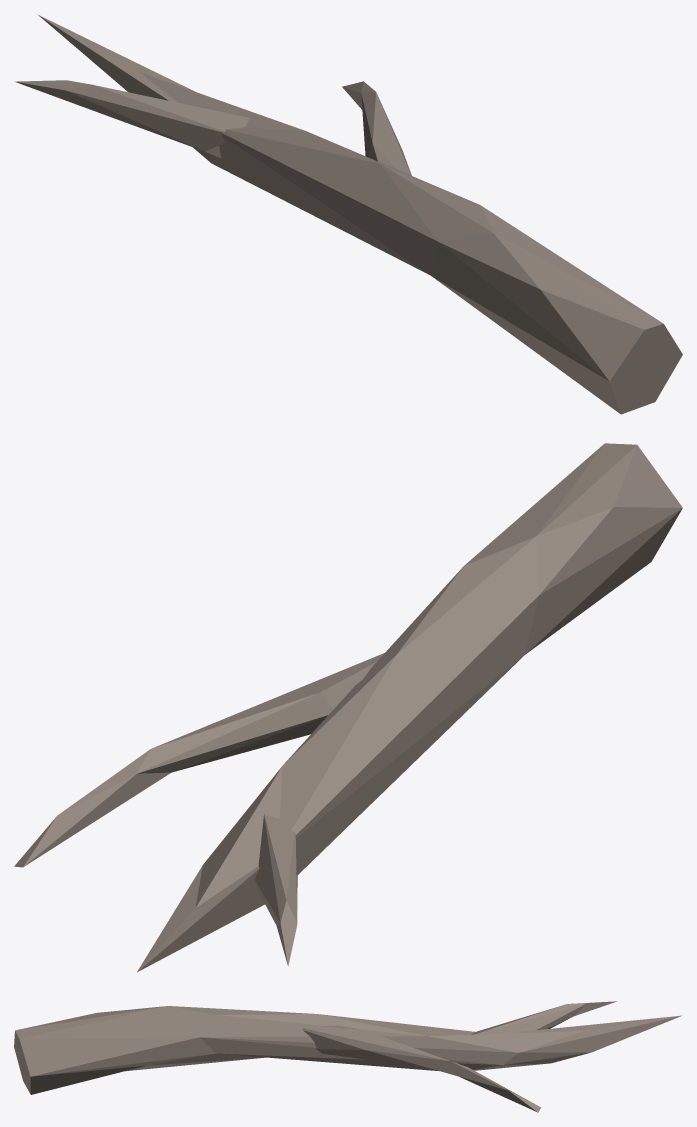
Rendered from toterbaum.fbx.
3 renders of one model, top to bottom at view 1: azimuth 30°, elevation 25°; view 2: azimuth 150°, elevation 25°; view 3: azimuth 270°, elevation 25°, orthographic. The views are drawn at different scales.
Visible parts, largest first — view 1: Polygon_Reduction_5; view 2: Polygon_Reduction_5; view 3: Polygon_Reduction_5.
Boxes of the visible parts, bbox=[...] form: Polygon_Reduction_5: bbox=[15, 14, 682, 414]; Polygon_Reduction_5: bbox=[14, 443, 682, 972]; Polygon_Reduction_5: bbox=[14, 1001, 681, 1112].
Size of the model in its own units: 138 by 50.17 by 431.
